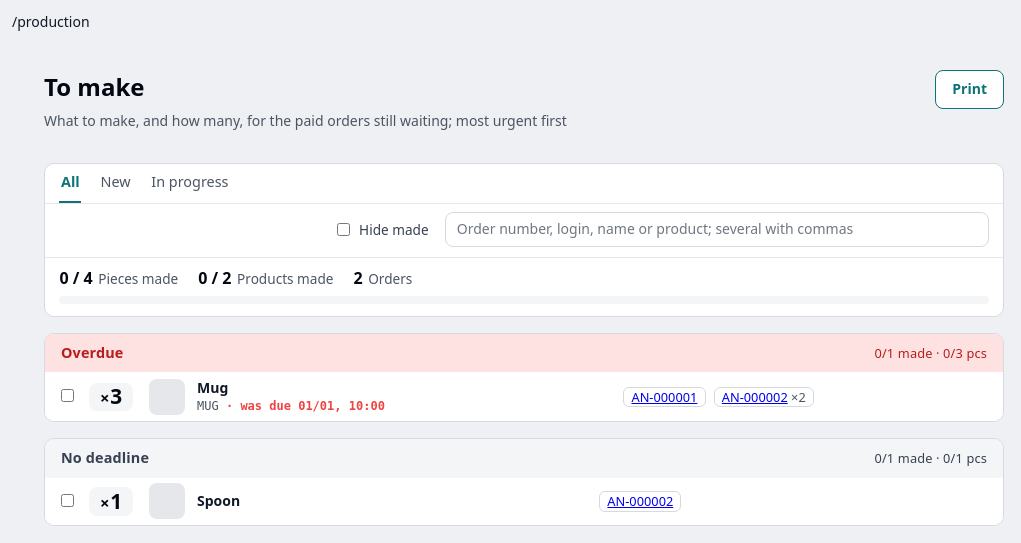
ticking products off › ticks a product off at once and tells the server how many were asked for
The image size is (1021, 543).
Click the checkbox named "Mark as made: Mug".
click(68, 396)  # box [61,389,74,402]
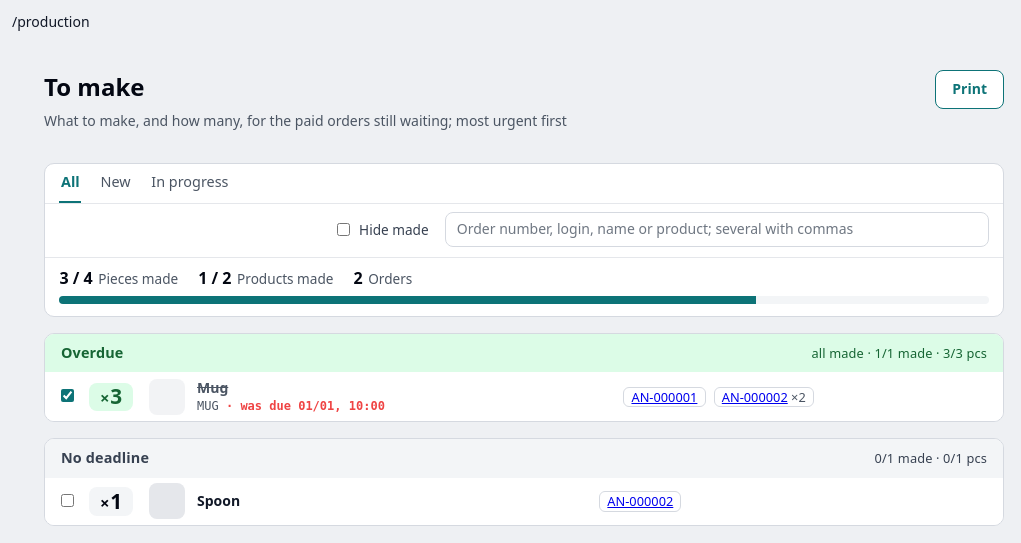
Check: the checkbox named "Mark as made: Mug" is checked, box [61,389,74,402]
Check: the text "3 / 4" is shown, box [59,267,93,290]
Check: the text "all made · 1/1 made · 3/3 pcs" is shown, box [812,344,987,362]
